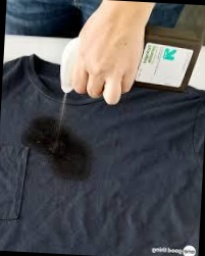oil: (23, 118, 93, 174)
